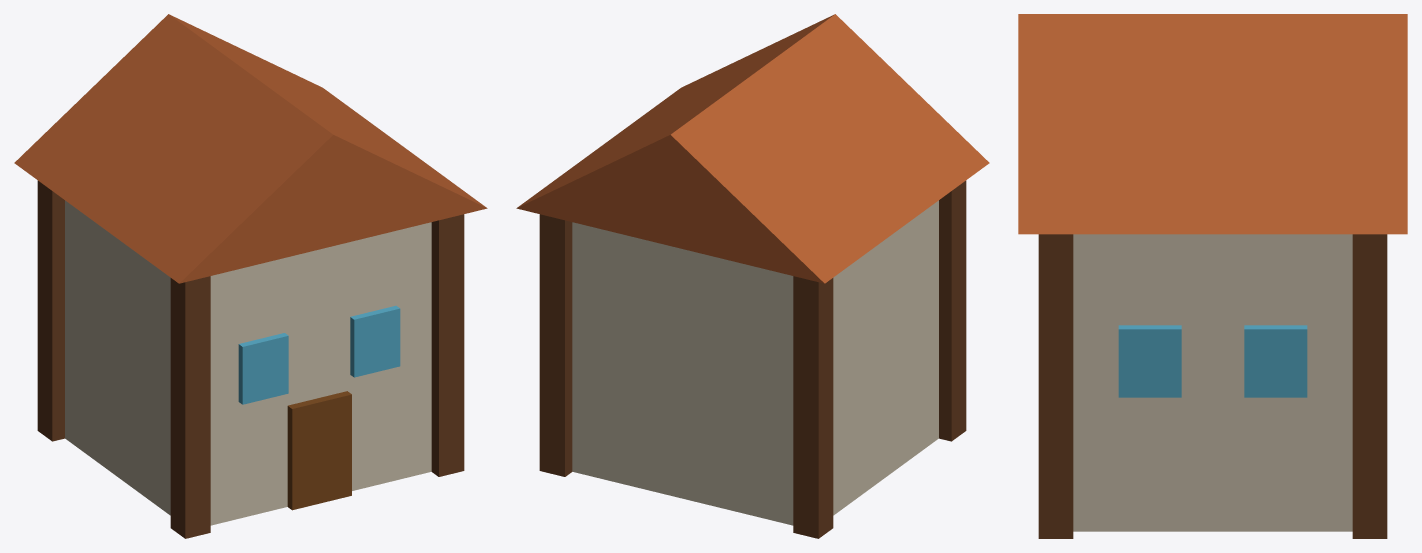
File: house_small.glb
3 renders of one model, left to right at view 1: azimuth 30°, elevation 25°; view 2: azimuth 150°, elevation 25°; view 3: azimuth 270°, elevation 25°, orthographic. The views are drawn at different scales.
Visible parts, largest first — view 1: beams; view 2: beams; view 3: beams.
Part boxes in pixels (left/top/right/bottom): beams: left=14, top=14, right=487, bottom=538; beams: left=516, top=14, right=989, bottom=538; beams: left=1018, top=14, right=1407, bottom=538.
Bounding box in the file's own units: 1.34 × 1.56 × 1.24.
